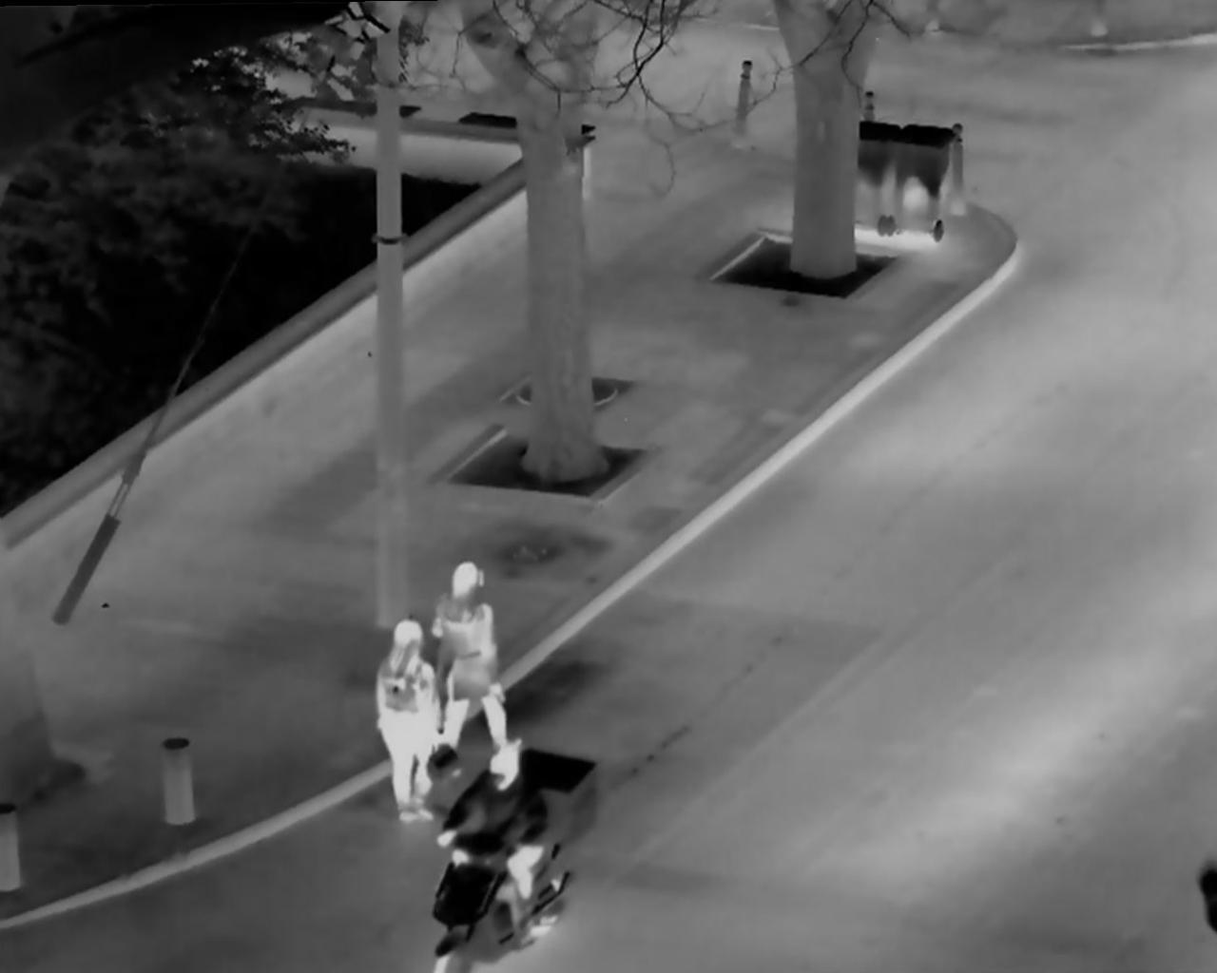person: (446, 743, 578, 961), (357, 604, 444, 846), (424, 554, 526, 751)
